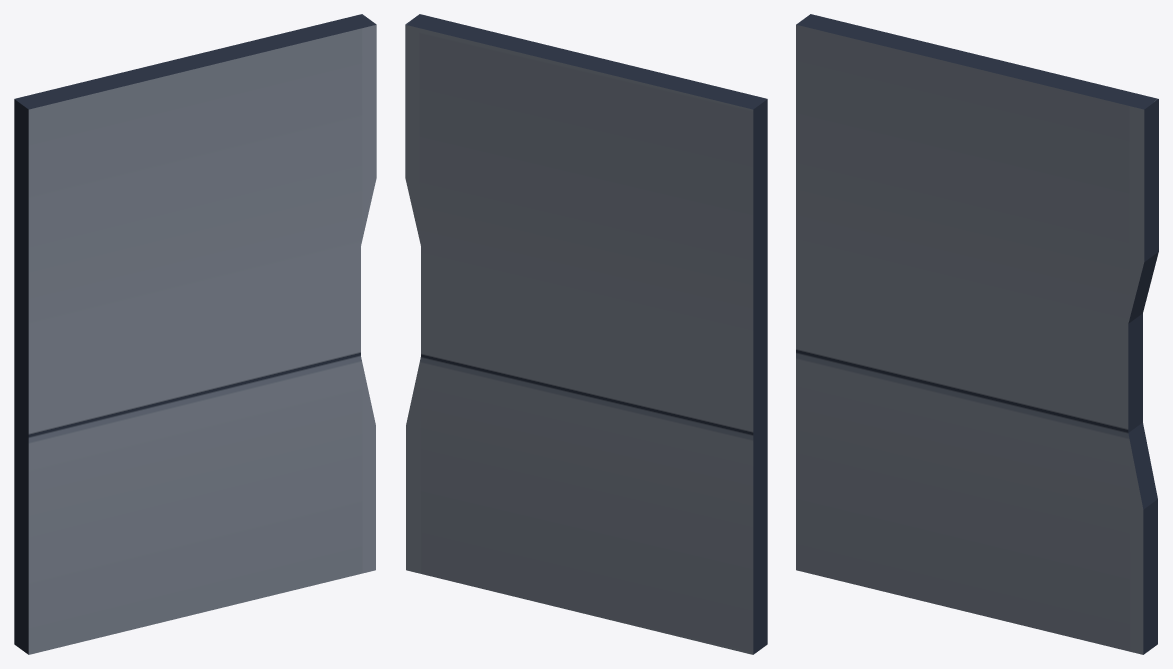
Rendered from Porta2.fbx.
The picture shows the model from 3 angles, left to right: view 1: azimuth 30°, elevation 25°; view 2: azimuth 150°, elevation 25°; view 3: azimuth 330°, elevation 25°; orthographic projection.
Visible parts, largest first — view 1: Cube.003; view 2: Cube.003; view 3: Cube.003.
Part boxes in pixels (left/top/right/bottom): Cube.003: left=14, top=14, right=376, bottom=654; Cube.003: left=405, top=14, right=767, bottom=654; Cube.003: left=796, top=14, right=1158, bottom=654.
Bounding box in the file's own units: 5.82 × 80.15 × 120.
